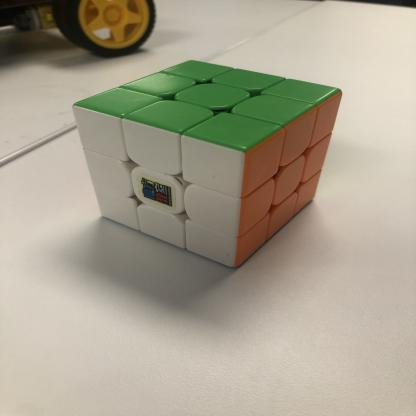SolvedCube: (61, 49, 353, 278)
